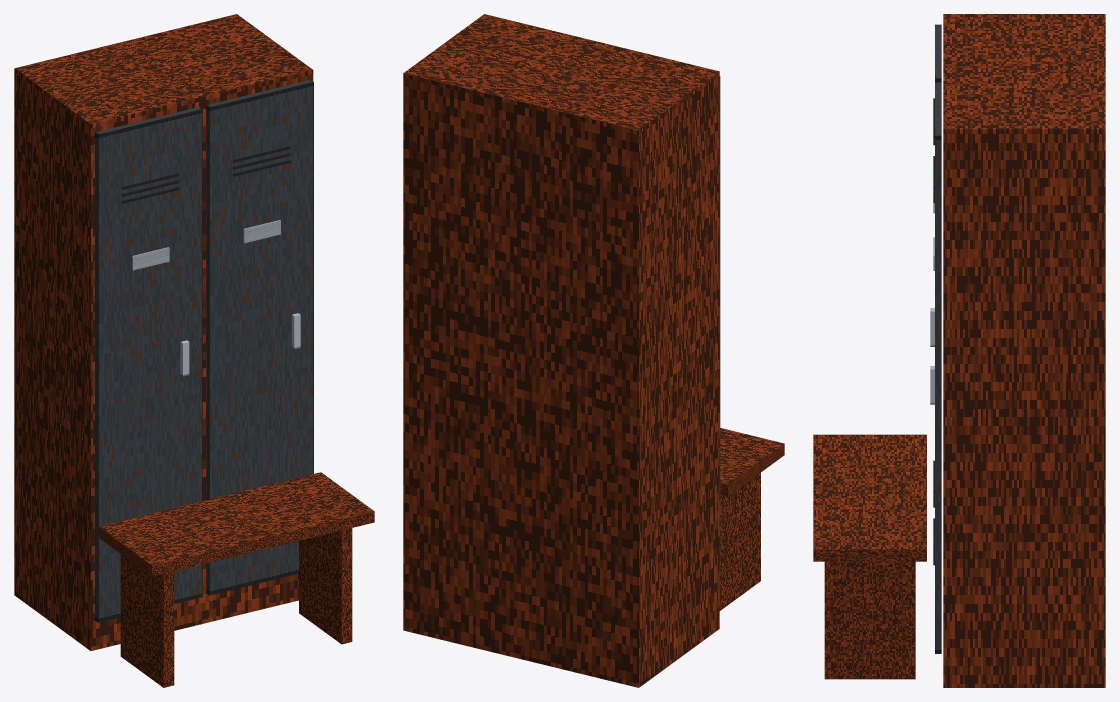
Rendered from locker_derelict_decay.glb.
3 renders of one model, left to right at view 1: azimuth 30°, elevation 25°; view 2: azimuth 150°, elevation 25°; view 3: azimuth 270°, elevation 25°, orthographic. The views are drawn at different scales.
Parts seen in each view (by area): view 1: locker_derelict_decay; view 2: locker_derelict_decay; view 3: locker_derelict_decay.
Part boxes in pixels (<box>): locker_derelict_decay: <box>14,14,374,687</box>; locker_derelict_decay: <box>403,14,784,687</box>; locker_derelict_decay: <box>813,14,1105,687</box>.
Bounding box in the file's own units: 0.84 × 1.9 × 0.9.
6 materials, 6 textured.
